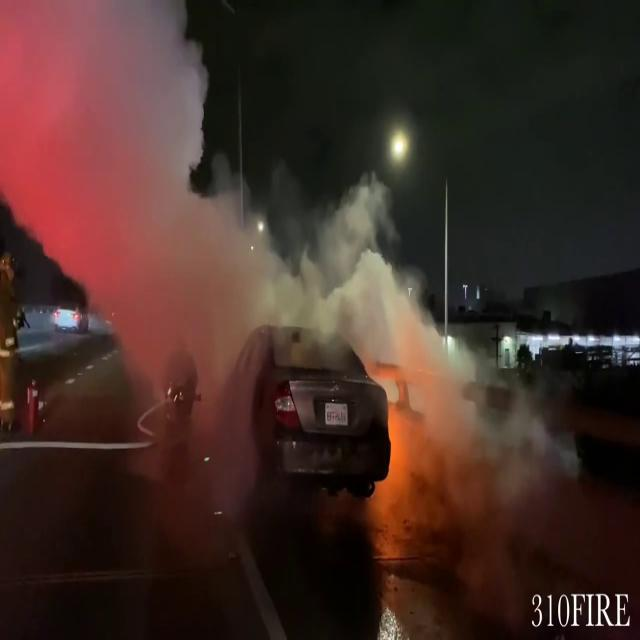Smoke: (0, 0, 275, 357), (280, 173, 408, 364)
